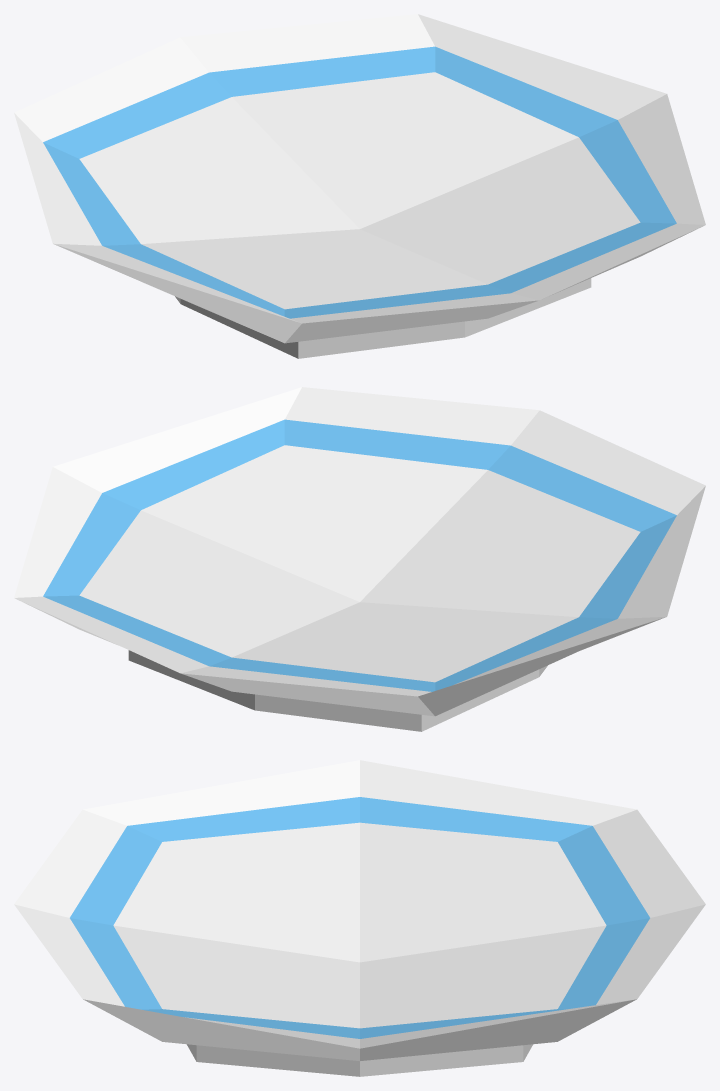
File: Saucer.fbx
3 views of the same model, one above another, from view 1: azimuth 30°, elevation 25°; view 2: azimuth 150°, elevation 25°; view 3: azimuth 270°, elevation 25° (orthographic). The views are drawn at different scales.
Visible parts, largest first — view 1: Saucer; view 2: Saucer; view 3: Saucer.
Boxes of the visible parts, x1=… form: Saucer: x1=14, y1=14, x2=705, y2=358; Saucer: x1=14, y1=387, x2=705, y2=731; Saucer: x1=14, y1=760, x2=705, y2=1076.
Bounding box in the file's own units: 17.14 × 2.46 × 17.37.
